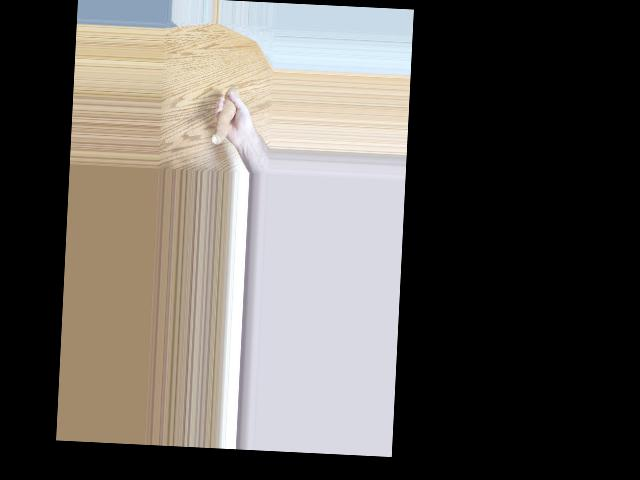sweet_potato: (211, 84, 238, 148)
